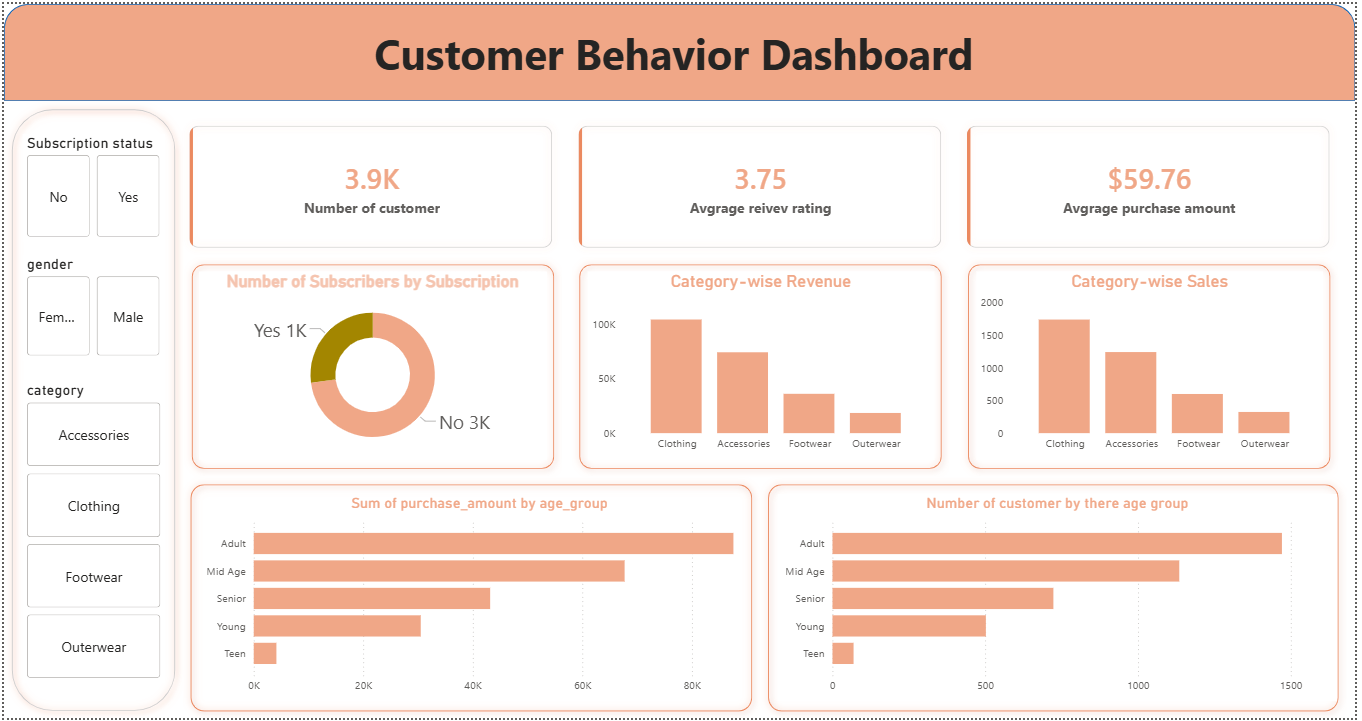

The dashboard page shown, as its layout file describes it:
{"tool":"powerbi","page":{"name":"Page 1","canvas":[1550,820],"ordinal":0},"visuals":[{"type":"cardVisual","fields":{"Data":["customer_data customer_sales.Number of customer","customer_data customer_sales.Avgrage reivev rating","customer_data customer_sales.Avgrage purchase amount"]},"box":[184.4,111.3,1365.9,196.1],"z":0},{"type":"shape","box":[0,0,1550.3,111.3],"z":1000},{"type":"textbox","box":[0,18.3,1550.3,93.1],"z":2000},{"type":"shape","box":[206,289.1,433.7,252.6],"z":3000},{"type":"donutChart","title":"Number of Subscribers by Subscription ","fields":{"Category":["customer_data customer_sales.subscription_status"],"Y":["customer_data customer_sales.Number of customer"]},"box":[224.3,307.4,398.8,216],"z":4000},{"type":"shape","box":[651.4,289.1,433.7,252.6],"z":5000},{"type":"shape","box":[1096.7,289.1,433.7,252.6],"z":6000},{"type":"clusteredColumnChart","title":"Category-wise Revenue","fields":{"Category":["customer_data customer_sales.category"],"Y":["Sum(customer_data customer_sales.purchase_amount)"]},"box":[669,307.4,397.3,215.7],"z":7000},{"type":"clusteredColumnChart","title":"Category-wise Sales","fields":{"Category":["customer_data customer_sales.category"],"Y":["customer_data customer_sales.Number of customer"]},"box":[1115.6,307.4,397.3,215.7],"z":8000},{"type":"shape","box":[0,112.1,205.5,708.1],"z":9000},{"type":"advancedSlicerVisual","fields":{"Values":["customer_data customer_sales.subscription_status"]},"box":[22.1,149.4,163,124],"z":10000},{"type":"advancedSlicerVisual","fields":{"Values":["customer_data customer_sales.gender"]},"box":[22.1,288.7,163,120.6],"z":11000},{"type":"advancedSlicerVisual","fields":{"Values":["customer_data customer_sales.category"]},"box":[22.1,433,163,346.4],"z":12000},{"type":"clusteredBarChart","fields":{"Y":["Sum(customer_data customer_sales.purchase_amount)"],"Category":["customer_data customer_sales.age_group"]},"box":[224.1,562.1,643.6,237.7],"z":13000},{"type":"shape","box":[867.7,541.7,672.4,278.5],"z":14000},{"type":"shape","box":[205.5,541.7,662.2,278.5],"z":15000},{"type":"clusteredBarChart","title":"Number of customer by there age group","fields":{"Category":["customer_data customer_sales.age_group"],"Y":["customer_data customer_sales.Number of customer"]},"box":[888.1,562.1,641.9,237.7],"z":16000}]}

Visuals, with their boxes in screenshot pixels (x1, y1, x2, y2), scaled from the page's 1550x820 canvas onto the 1362x721 screenshot:
cardVisual - customer_data customer_sales.Number of customer x customer_data customer_sales.Avgrage reivev rating: <region>162, 98, 1361, 270</region>
shape: <region>0, 0, 1361, 98</region>
textbox: <region>0, 16, 1361, 98</region>
shape: <region>181, 254, 562, 476</region>
"Number of Subscribers by Subscription " donutChart: <region>197, 270, 548, 460</region>
shape: <region>572, 254, 953, 476</region>
shape: <region>964, 254, 1345, 476</region>
"Category-wise Revenue" clusteredColumnChart: <region>588, 270, 937, 460</region>
"Category-wise Sales" clusteredColumnChart: <region>980, 270, 1329, 460</region>
shape: <region>0, 99, 181, 720</region>
advancedSlicerVisual - customer_data customer_sales.subscription_status: <region>19, 131, 163, 240</region>
advancedSlicerVisual - customer_data customer_sales.gender: <region>19, 254, 163, 360</region>
advancedSlicerVisual - customer_data customer_sales.category: <region>19, 381, 163, 685</region>
clusteredBarChart - Sum(customer_data customer_sales.purchase_amount) x customer_data customer_sales.age_group: <region>197, 494, 762, 703</region>
shape: <region>762, 476, 1353, 720</region>
shape: <region>181, 476, 762, 720</region>
"Number of customer by there age group" clusteredBarChart: <region>780, 494, 1344, 703</region>
